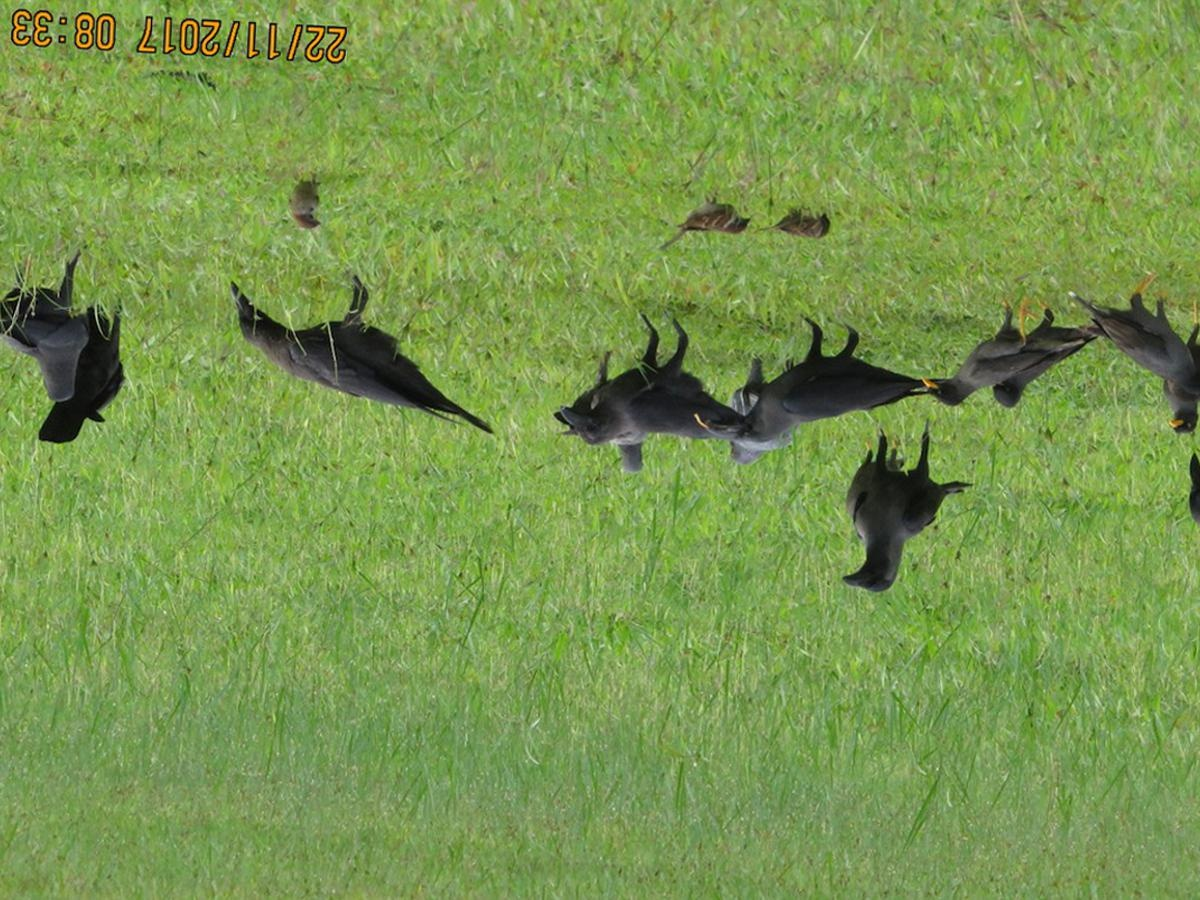crow: (215, 269, 514, 434), (717, 306, 941, 466), (819, 430, 992, 619), (545, 313, 731, 473), (1, 263, 140, 447), (907, 297, 1049, 406)
